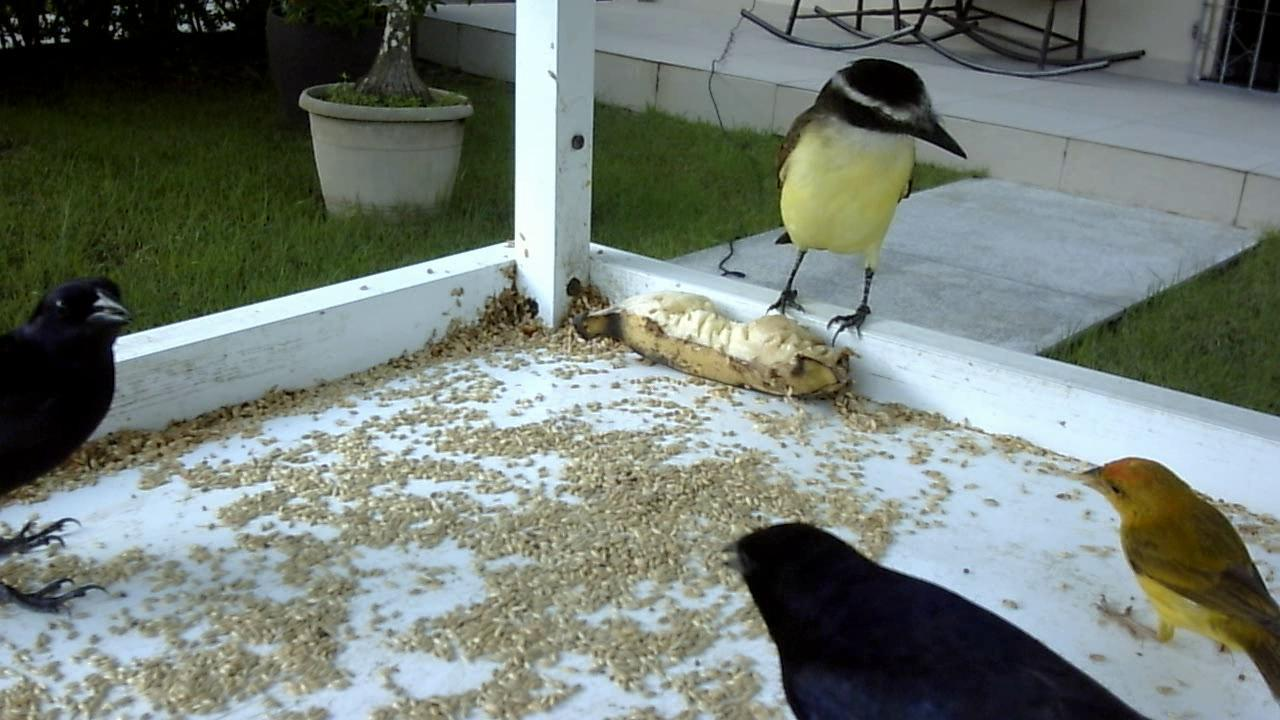bem_te_vi: (706, 48, 991, 357)
canario_do_amazonas: (1053, 442, 1280, 710)
chupim: (709, 510, 1166, 720), (1, 261, 146, 633)
